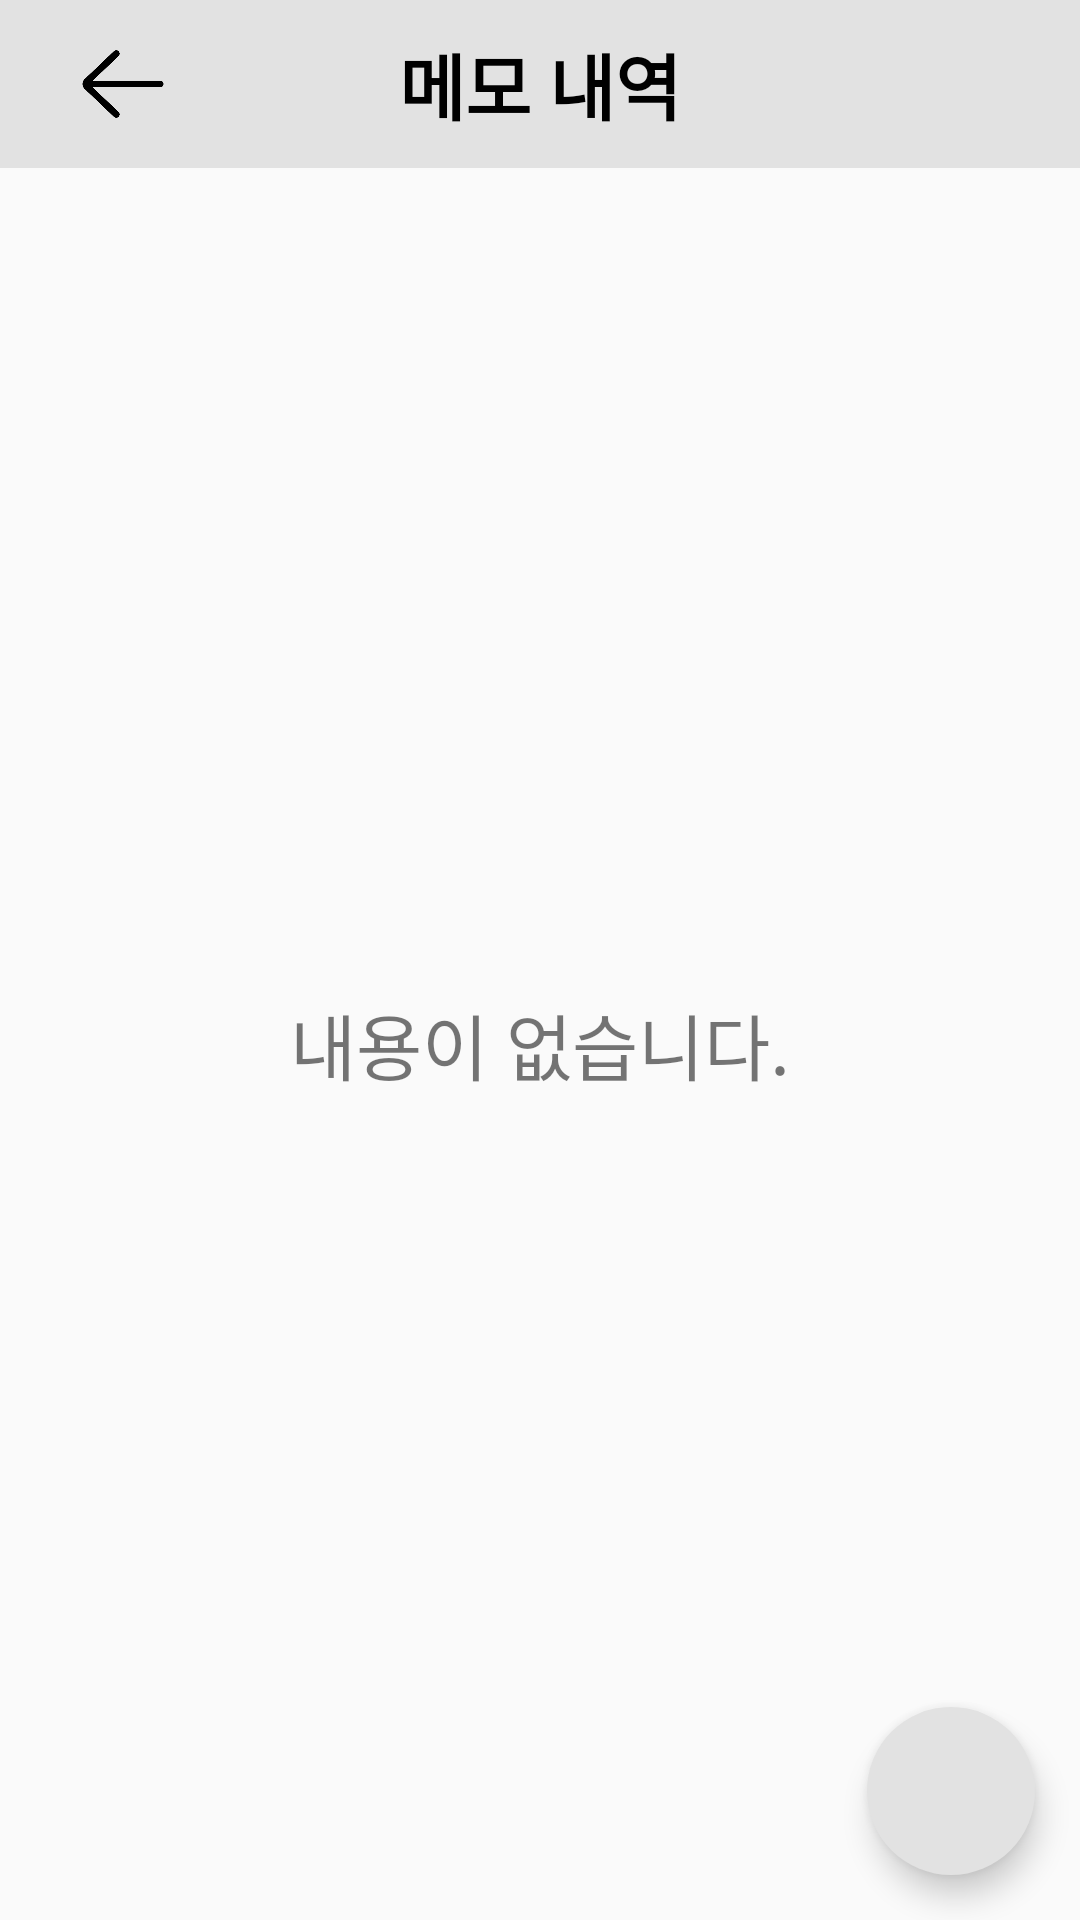

Icon click points for this 1080 × 1920 phone screenshot, format [x,y]:
back: [123,84]
